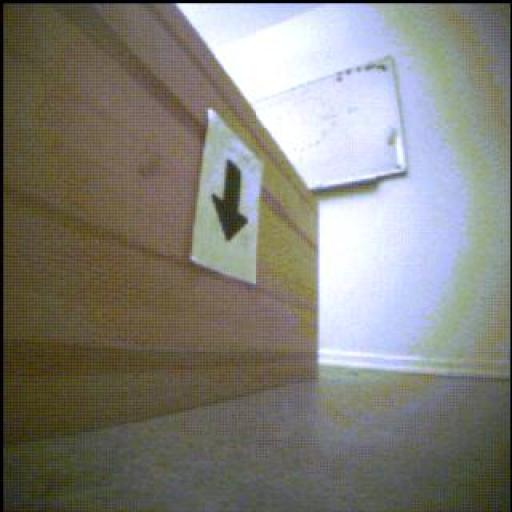Arrow: (212, 161, 249, 241)
